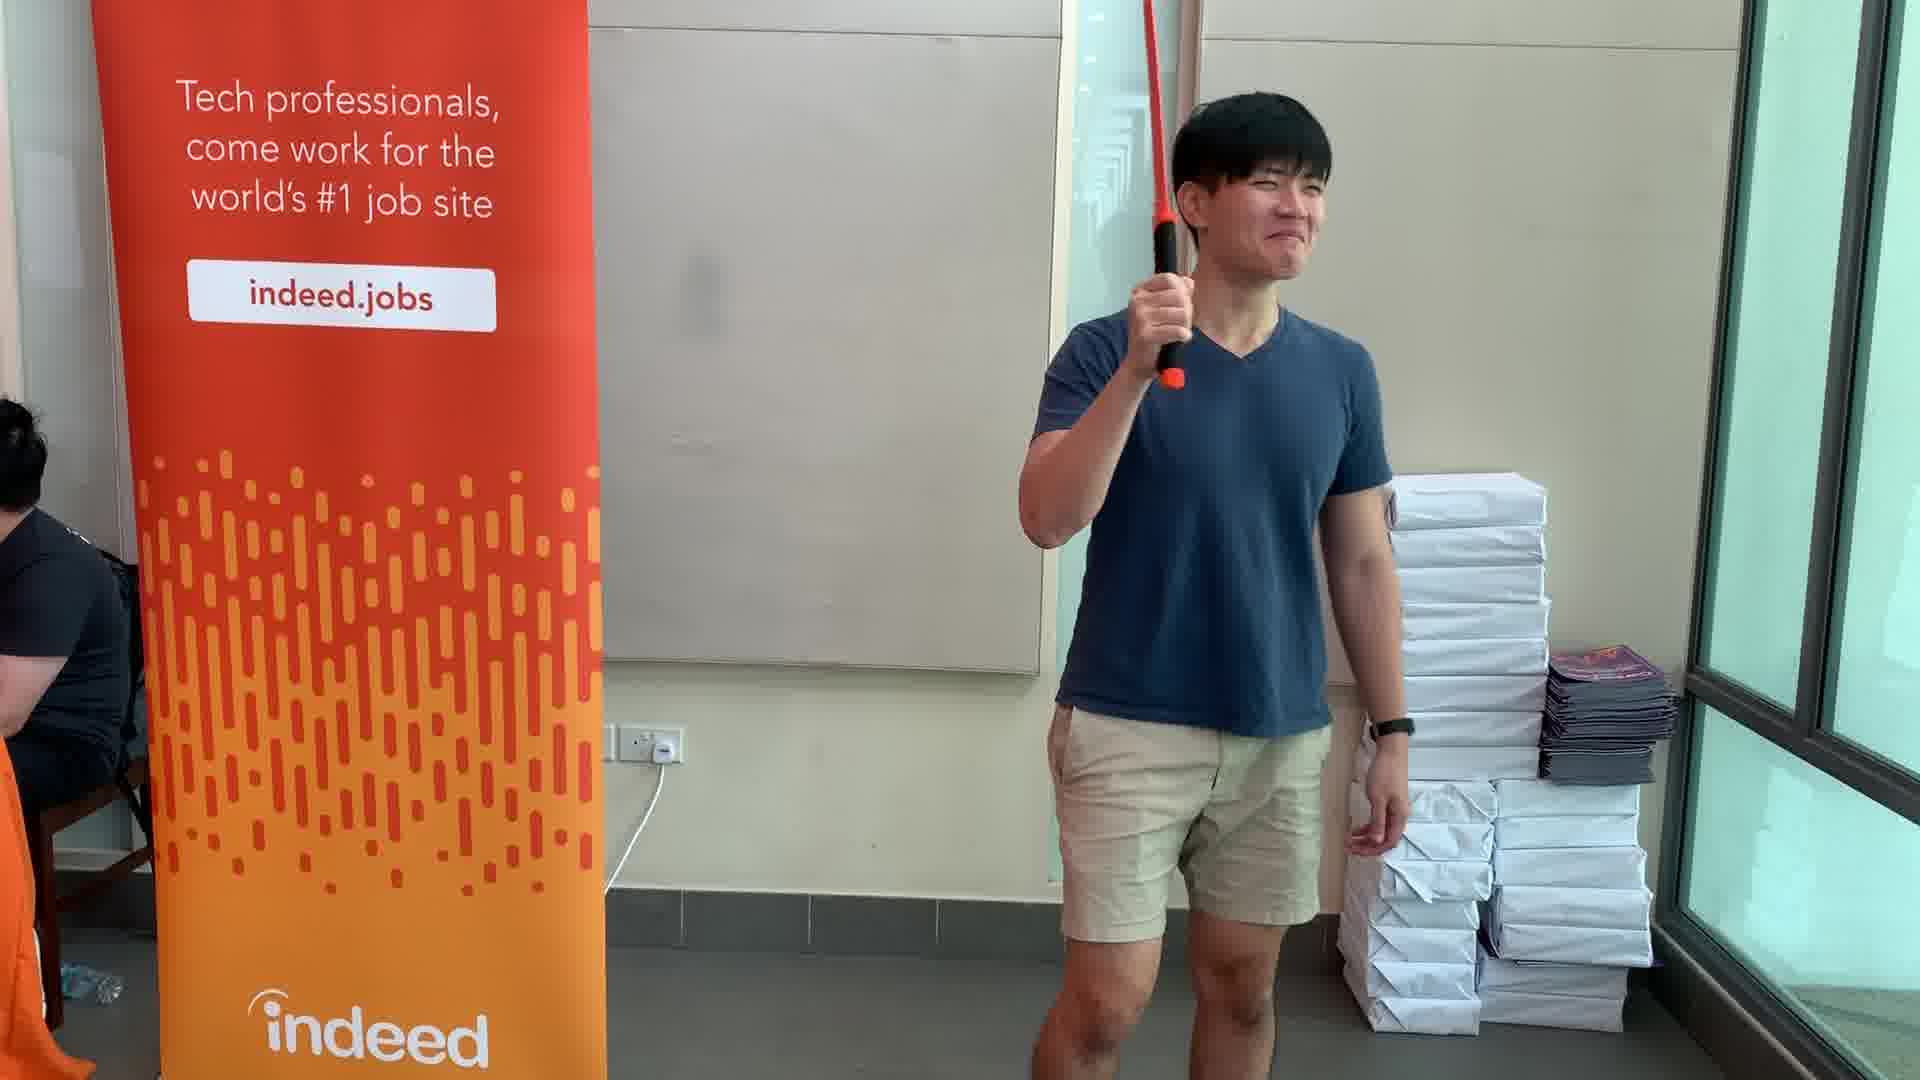knife: (1120, 1, 1182, 392)
